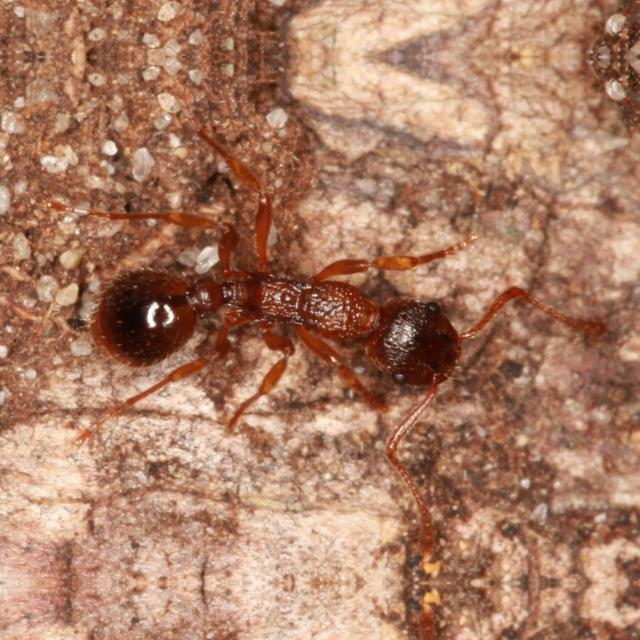Myrmica: (101, 192, 522, 456)
